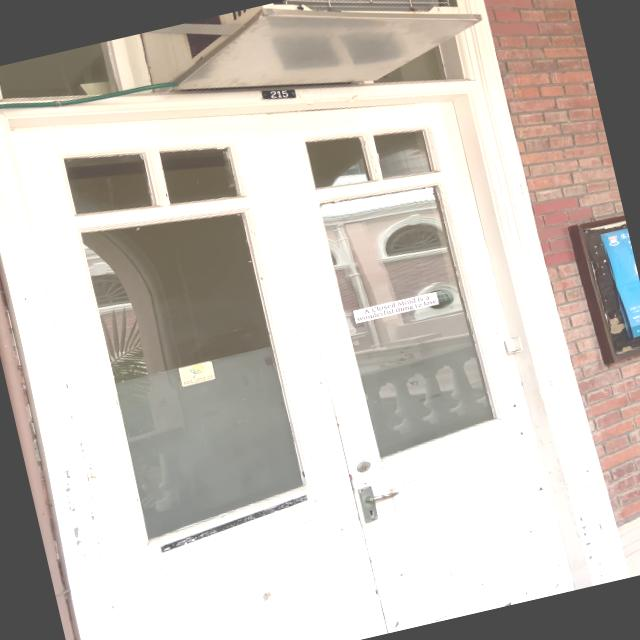room215: (259, 81, 297, 106)
